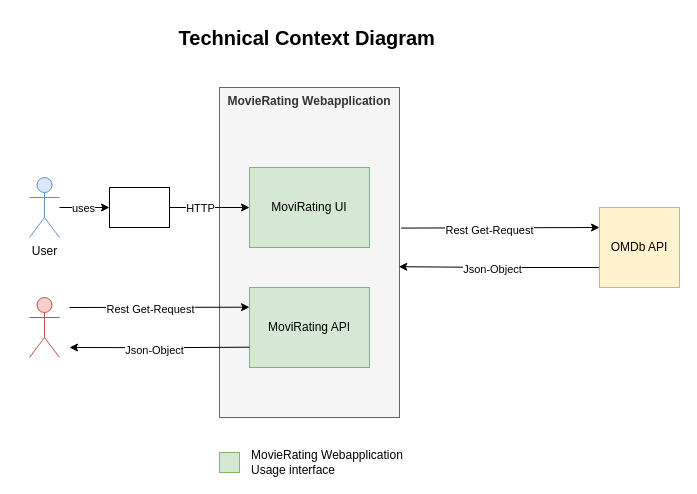
This 697x494 diagram has some shape labels left out. Here are the shapes that lost their labels. From the top down, the centre of each, then its label:
At pixel 139 207: "Browser".
At pixel 44 327: "Developer".
